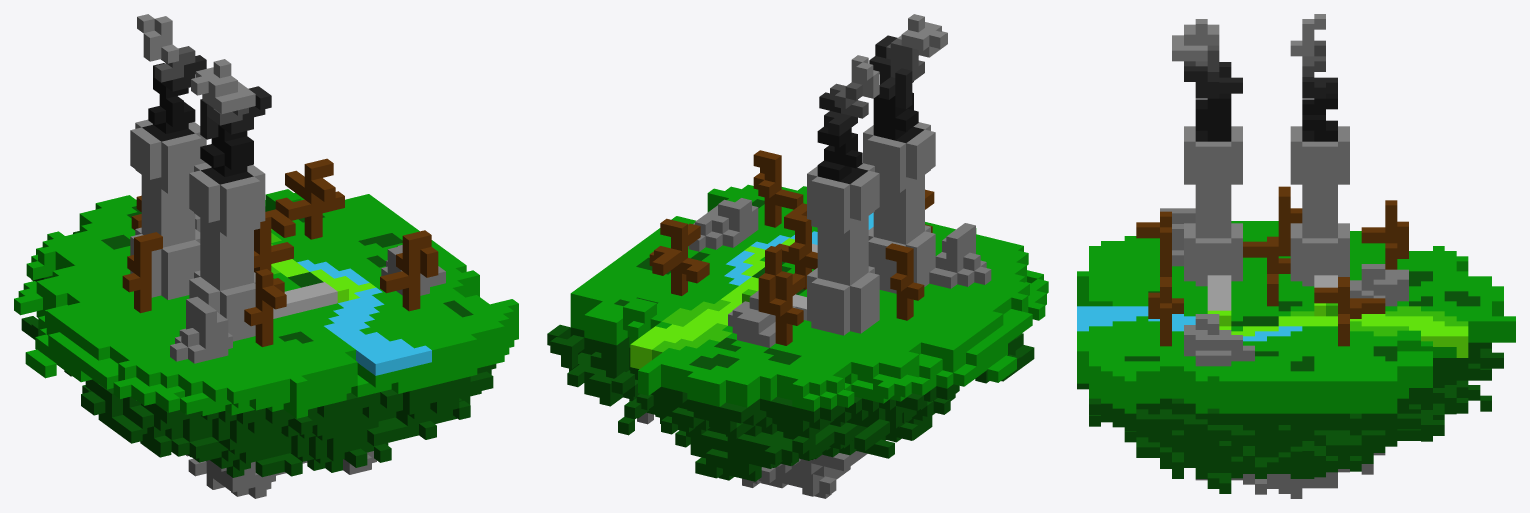
The model's file is badddd.gltf.
3 views of the same model, side by side, from view 1: azimuth 30°, elevation 25°; view 2: azimuth 150°, elevation 25°; view 3: azimuth 270°, elevation 25° (orthographic). The views are drawn at different scales.
Parts seen in each view (by area): view 1: Untitled; view 2: Untitled; view 3: Untitled.
Part boxes in pixels (bbox=[...]): Untitled: bbox=[14, 14, 518, 498]; Untitled: bbox=[547, 14, 1048, 498]; Untitled: bbox=[1077, 14, 1515, 498].
Bounding box in the file's own units: 3.8 × 4 × 3.7.
Materials: 1 (1 with a texture image).
